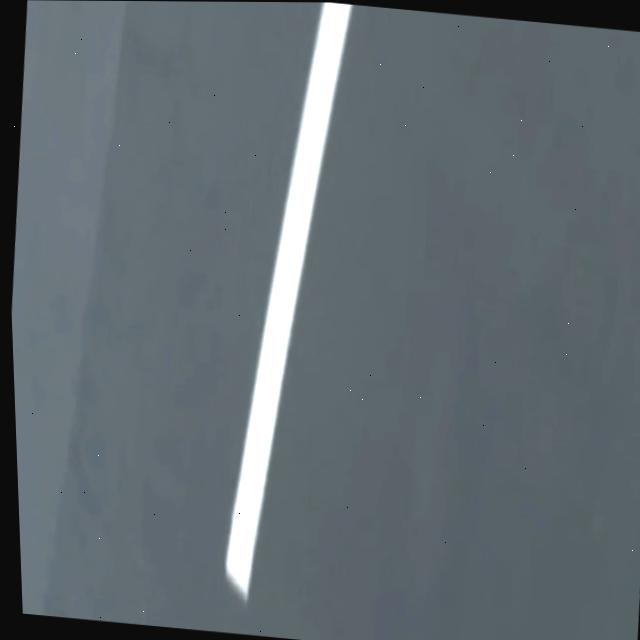center: (226, 2, 352, 599)
